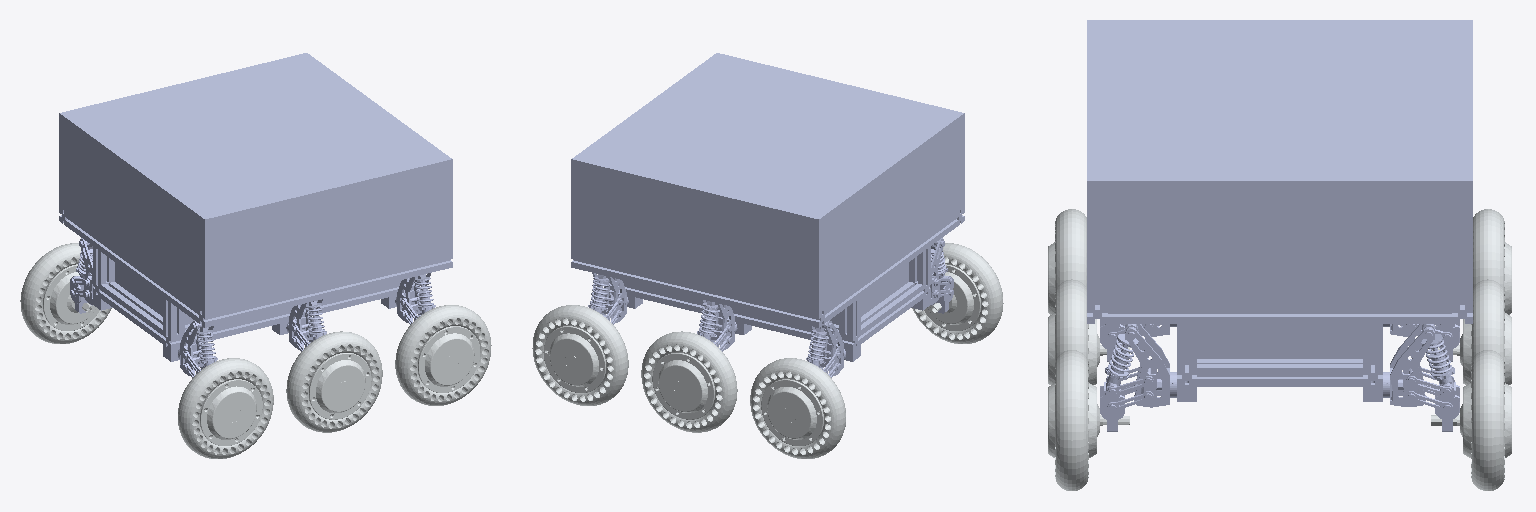
robot.urdf — skate_sus_frame:
<?xml version="1.0" encoding="utf-8"?>
<!-- This URDF was automatically created by SolidWorks to URDF Exporter! Originally created by [author] ([email redacted]) 
     Commit Version: 1.5.1-0-g916b5db  Build Version: 1.5.7152.31018
     For more information, please see http://wiki.ros.org/sw_urdf_exporter -->
<robot
  name="skate_sus_frame">
  <link
    name="base_link">
    <inertial>
      <origin
        xyz="-2.7443E-12 3.9646E-06 0.11505"
        rpy="0 0 0" />
      <mass
        value="23.26" />
      <inertia
        ixx="0.31254"
        ixy="-1.7547E-11"
        ixz="-6.234E-15"
        iyy="0.44265"
        iyz="-1.4289E-14"
        izz="0.68535" />
    </inertial>
    <visual>
      <origin
        xyz="0 0 0"
        rpy="0 0 0" />
      <geometry>
        <mesh
          filename="package://skate_sus_frame/meshes/base_link.STL" />
      </geometry>
      <material
        name="">
        <color
          rgba="0.79216 0.81961 0.93333 1" />
      </material>
    </visual>
    <collision>
      <origin
        xyz="0 0 0"
        rpy="0 0 0" />
      <geometry>
        <mesh
          filename="package://skate_sus_frame/meshes/base_link.STL" />
      </geometry>
    </collision>
  </link>
  <link
    name="LF_wheel">
    <inertial>
      <origin
        xyz="5.7674E-07 -0.035266 1.0788E-06"
        rpy="0 0 0" />
      <mass
        value="3.8843" />
      <inertia
        ixx="0.0093252"
        ixy="1.6431E-07"
        ixz="-3.3977E-08"
        iyy="0.016546"
        iyz="3.2982E-07"
        izz="0.0093251" />
    </inertial>
    <visual>
      <origin
        xyz="0 0 0"
        rpy="0 0 0" />
      <geometry>
        <mesh
          filename="package://skate_sus_frame/meshes/LF_wheel.STL" />
      </geometry>
      <material
        name="">
        <color
          rgba="0.89804 0.91765 0.92941 1" />
      </material>
    </visual>
    <collision>
      <origin
        xyz="0 0 0"
        rpy="0 0 0" />
      <geometry>
        <mesh
          filename="package://skate_sus_frame/meshes/LF_wheel.STL" />
      </geometry>
    
    </collision>

  </link>


  <joint
    name="LF_joint"
    type="continuous">
    <origin
      xyz="0.24182 0.33681 -0.070114"
      rpy="0 0 0" />
    <parent
      link="base_link" />
    <child
      link="LF_wheel" />
    <axis
      xyz="0 -1 0" />
    <limit
      effort="11.12"
      velocity="25.76" />
  </joint>



  <link
    name="LM_wheel">
    <inertial>
      <origin
        xyz="9.4275E-07 -0.035266 7.9606E-07"
        rpy="0 0 0" />
      <mass
        value="3.8843" />
      <inertia
        ixx="0.0093252"
        ixy="2.7582E-07"
        ixz="-4.1995E-08"
        iyy="0.016546"
        iyz="2.4474E-07"
        izz="0.0093252" />
    </inertial>
    <visual>
      <origin
        xyz="0 0 0"
        rpy="0 0 0" />
      <geometry>
        <mesh
          filename="package://skate_sus_frame/meshes/LM_wheel.STL" />
      </geometry>
      <material
        name="">
        <color
          rgba="0.89804 0.91765 0.92941 1" />
      </material>
    </visual>
    <collision>
      <origin
        xyz="0 0 0"
        rpy="0 0 0" />
      <geometry>
        <mesh
          filename="package://skate_sus_frame/meshes/LM_wheel.STL" />
      </geometry>
     
    </collision>
  </link>
  <joint
    name="LM_joint"
    type="continuous">
    <origin
      xyz="0 0.33681 -0.070114"
      rpy="0 0 0" />
    <parent
      link="base_link" />
    <child
      link="LM_wheel" />
    <axis
      xyz="0 -1 0" />
    <limit
      effort="11.12"
      velocity="25.76" />
  </joint>
  <link
    name="LB_wheel">
    <inertial>
      <origin
        xyz="8.698E-07 -0.035266 8.7973E-07"
        rpy="0 0 0" />
      <mass
        value="3.8843" />
      <inertia
        ixx="0.0093252"
        ixy="2.5428E-07"
        ixz="-4.1202E-08"
        iyy="0.016546"
        iyz="2.671E-07"
        izz="0.0093252" />
    </inertial>
    <visual>
      <origin
        xyz="0 0 0"
        rpy="0 0 0" />
      <geometry>
        <mesh
          filename="package://skate_sus_frame/meshes/LB_wheel.STL" />
      </geometry>
      <material
        name="">
        <color
          rgba="0.89804 0.91765 0.92941 1" />
      </material>
    </visual>
    <collision>
      <origin
        xyz="0 0 0"
        rpy="0 0 0" />
      <geometry>
        <mesh
          filename="package://skate_sus_frame/meshes/LB_wheel.STL" />
      </geometry>
     
    </collision>
  </link>
  <joint
    name="LB_joint"
    type="continuous">
    <origin
      xyz="-0.24182 0.33681 -0.070114"
      rpy="0 0 0" />
    <parent
      link="base_link" />
    <child
      link="LB_wheel" />
    <axis
      xyz="0 -1 0" />
    <limit
      effort="11.12"
      velocity="25.76" />
  </joint>
  <link
    name="RF_wheel">
    <inertial>
      <origin
        xyz="9.5919E-07 0.035266 7.8173E-07"
        rpy="0 0 0" />
      <mass
        value="3.8843" />
      <inertia
        ixx="0.0093251"
        ixy="-2.9188E-07"
        ixz="-3.9755E-08"
        iyy="0.016546"
        iyz="-2.2541E-07"
        izz="0.0093252" />
    </inertial>
    <visual>
      <origin
        xyz="0 0 0"
        rpy="0 0 0" />
      <geometry>
        <mesh
          filename="package://skate_sus_frame/meshes/RF_wheel.STL" />
      </geometry>
      <material
        name="">
        <color
          rgba="0.89804 0.91765 0.92941 1" />
      </material>
    </visual>
    <collision>
      <origin
        xyz="0 0 0"
        rpy="0 0 0" />
      <geometry>
        <mesh
          filename="package://skate_sus_frame/meshes/RF_wheel.STL" />
      </geometry>
     
    </collision>
  </link>
  <joint
    name="RF_joint"
    type="continuous">
    <origin
      xyz="0.24182 -0.33671 -0.070114"
      rpy="0 0 0" />
    <parent
      link="base_link" />
    <child
      link="RF_wheel" />
    <axis
      xyz="0 1 0" />
    <limit
      effort="11.12"
      velocity="25.76" />
  </joint>
  <link
    name="RM_wheel">
    <inertial>
      <origin
        xyz="1.1904E-06 0.035266 2.7274E-07"
        rpy="0 0 0" />
      <mass
        value="3.8843" />
      <inertia
        ixx="0.0093251"
        ixy="-3.6103E-07"
        ixz="-1.4108E-08"
        iyy="0.016546"
        iyz="-7.4231E-08"
        izz="0.0093252" />
    </inertial>
    <visual>
      <origin
        xyz="0 0 0"
        rpy="0 0 0" />
      <geometry>
        <mesh
          filename="package://skate_sus_frame/meshes/RM_wheel.STL" />
      </geometry>
      <material
        name="">
        <color
          rgba="0.89804 0.91765 0.92941 1" />
      </material>
    </visual>
    <collision>
      <origin
        xyz="0 0 0"
        rpy="0 0 0" />
      <geometry>
        <mesh
          filename="package://skate_sus_frame/meshes/RM_wheel.STL" />
      </geometry>
     
    </collision>
  </link>
  <joint
    name="RM_joint"
    type="continuous">
    <origin
      xyz="0 -0.33671 -0.070114"
      rpy="0 0 0" />
    <parent
      link="base_link" />
    <child
      link="RM_wheel" />
    <axis
      xyz="0 1 0" />
    <limit
      effort="11.12"
      velocity="25.76" />
  </joint>
  <link
    name="RB_wheel">
    <inertial>
      <origin
        xyz="9.1931E-07 0.035266 8.2826E-07"
        rpy="0 0 0" />
      <mass
        value="3.8843" />
      <inertia
        ixx="0.0093252"
        ixy="-2.8036E-07"
        ixz="-4.0869E-08"
        iyy="0.016546"
        iyz="-2.3958E-07"
        izz="0.0093252" />
    </inertial>
    <visual>
      <origin
        xyz="0 0 0"
        rpy="0 0 0" />
      <geometry>
        <mesh
          filename="package://skate_sus_frame/meshes/RB_wheel.STL" />
      </geometry>
      <material
        name="">
        <color
          rgba="0.89804 0.91765 0.92941 1" />
      </material>
    </visual>
    <collision>
      <origin
        xyz="0 0 0"
        rpy="0 0 0" />
      <geometry>
        <mesh
          filename="package://skate_sus_frame/meshes/RB_wheel.STL" />
      </geometry>
     
    </collision>
  </link>
  <joint
    name="RB_joint"
    type="continuous">
    <origin
      xyz="-0.24182 -0.33681 -0.070114"
      rpy="0 0 0" />
    <parent
      link="base_link" />
    <child
      link="RB_wheel" />
    <axis
      xyz="0 1 0" />
    <limit
      effort="11.12"
      velocity="25.76" />
  </joint>

  <gazebo reference = "LF_wheel">
    
    <mu1>1.0</mu1>
    <mu2>1.0</mu2>
    <!-- <fdir1>1 0 0</fdir1>
    <kp>1000000.0</kp>
    <kd>100.0</kd> -->
    
  </gazebo>

  <gazebo reference = "LM_wheel">
    
    <mu1>1.0</mu1>
    <mu2>1.0</mu2>
    <!-- <fdir1>1 0 0</fdir1>
    <kp>1000000.0</kp>
    <kd>100.0</kd> -->
  </gazebo>

  <gazebo reference = "LB_wheel">
    
    <mu1>1.0</mu1>
    <mu2>1.0</mu2>
    <!-- <fdir1>1 0 0</fdir1>
    <kp>1000000.0</kp>
    <kd>100.0</kd> -->
  </gazebo>

  <gazebo reference = "RF_wheel">
    
    <mu1>1.0</mu1>
    <mu2>1.0</mu2>
    <!-- <fdir1>1 0 0</fdir1>
    <kp>1000000.0</kp>
    <kd>100.0</kd> -->
  </gazebo>

  <gazebo reference = "RM_wheel">
    
    <mu1>1.0</mu1>
    <mu2>1.0</mu2>
    <!-- <fdir1>1 0 0</fdir1>
    <kp>1000000.0</kp>
    <kd>100.0</kd> -->
  </gazebo>

  <gazebo reference = "RB_wheel">
    
    <mu1>1.0</mu1>
    <mu2>1.0</mu2>
    <!-- <fdir1>1 0 0</fdir1>
    <kp>1000000.0</kp>
    <kd>100.0</kd> -->
  </gazebo> 





</robot>

--- Facts derived from the render (not from the file) ---
The picture shows the robot from 3 angles, left to right: view 1: azimuth 30°, elevation 25°; view 2: azimuth 150°, elevation 25°; view 3: azimuth 270°, elevation 25°; orthographic projection.
Robot: skate_sus_frame — 7 links, 6 joints (6 continuous); root link base_link; default pose: every joint at zero.
Links seen in each view (by area): view 1: base_link, RB_wheel, RM_wheel, RF_wheel, LB_wheel; view 2: base_link, LF_wheel, LB_wheel, LM_wheel, RB_wheel; view 3: base_link, LF_wheel, RF_wheel, LM_wheel, RM_wheel, LB_wheel, RB_wheel.
Link boxes in pixels (x1,y1,x2,y2): base_link: (59,53,452,377); RB_wheel: (178,358,273,458); RM_wheel: (286,331,382,432); RF_wheel: (395,305,491,405); LB_wheel: (20,243,111,343); base_link: (571,53,964,377); LF_wheel: (532,305,628,405); LB_wheel: (750,358,845,458); LM_wheel: (641,331,737,432); RB_wheel: (912,243,1003,343); base_link: (1087,20,1472,431); LF_wheel: (1431,350,1511,490); RF_wheel: (1048,350,1129,490); LM_wheel: (1432,279,1511,384); RM_wheel: (1048,279,1129,384); LB_wheel: (1473,209,1511,314); RB_wheel: (1048,209,1086,314).
Bounding box of the posed robot: 0.6896 × 0.6736 × 0.5031 m (x, y, z).
Meshes: 7 distinct files referenced, 7 mesh visuals loaded (7 binary STL).